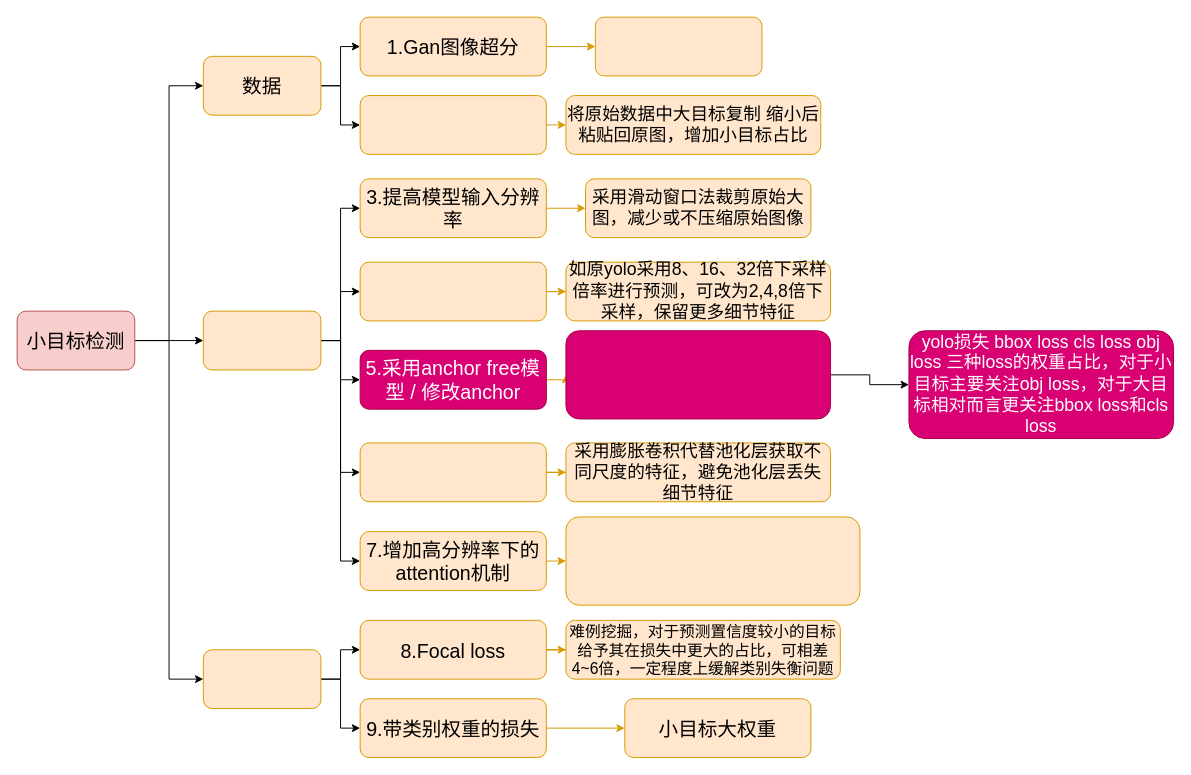
Image size: 1191x775. Some labels were removed from this diagram. Here are the shapes that lost their labels. From the top down, the centre of each, then its label:
At (x=678, y=46): "基于Gan生成高分辨率图像用于检测".
At (x=452, y=124): "2.Copy and Paste".
At (x=452, y=291): "4.减少下采样倍率".
At (x=261, y=340): "模型".
At (x=698, y=374): "anchor based模型计算损失时(iou)会使模型更关注于大目标检测性能，而忽视小目标，采用anchor free可一定程度上缓解".
At (x=452, y=472): "6.采用空洞卷积替代池化操作".
At (x=712, y=560): "attention机制其实是一种在保留细节特征的前提下增加感受野的方式，采用attention机制充分挖掘微小目标中最有用信息".
At (x=261, y=679): "损失计算".
